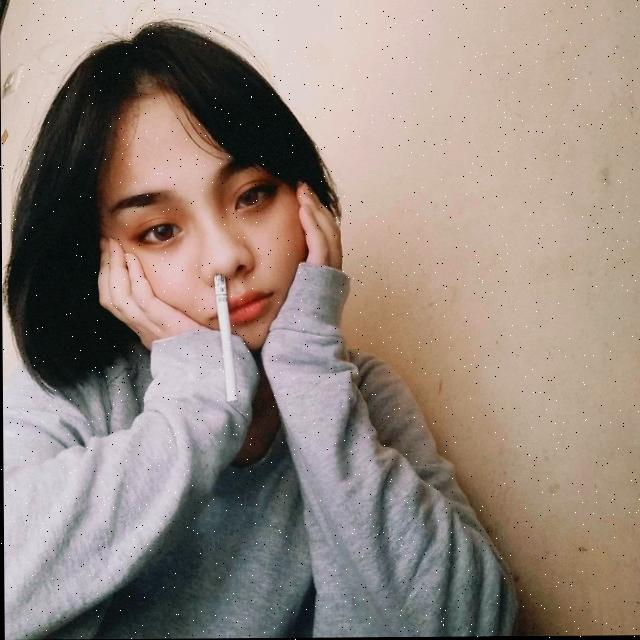cigarette: (212, 274, 238, 403)
